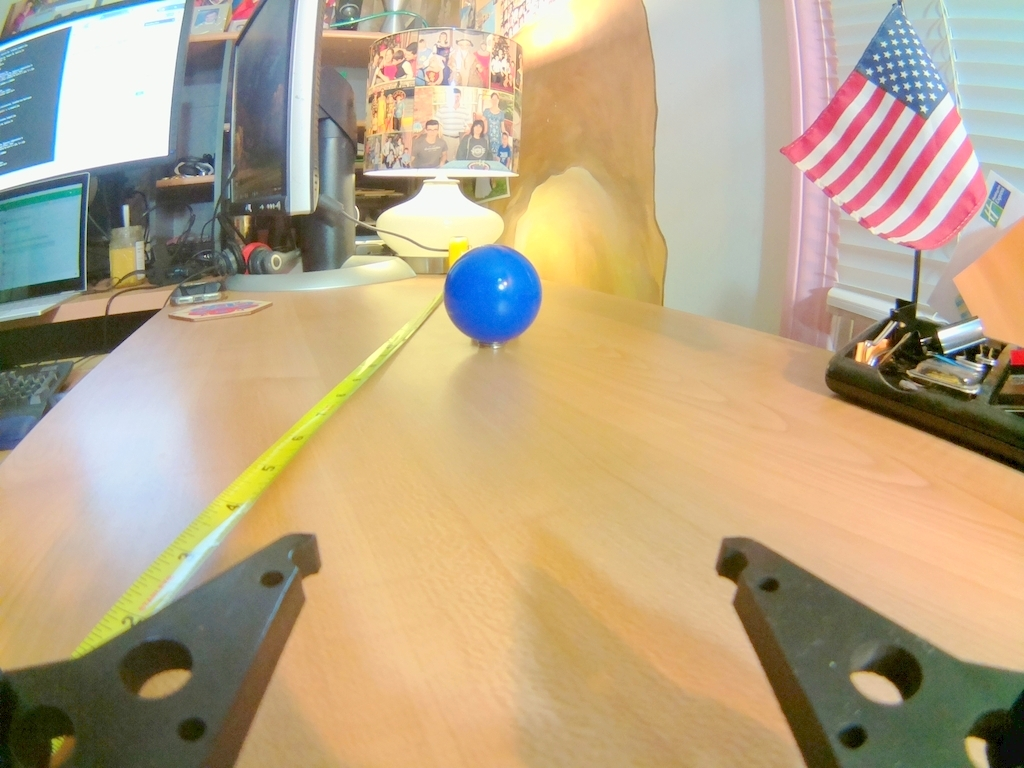ball: (442, 244, 544, 346)
